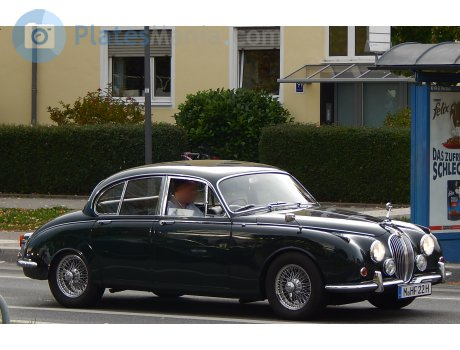License Plates: (399, 283, 434, 289)
